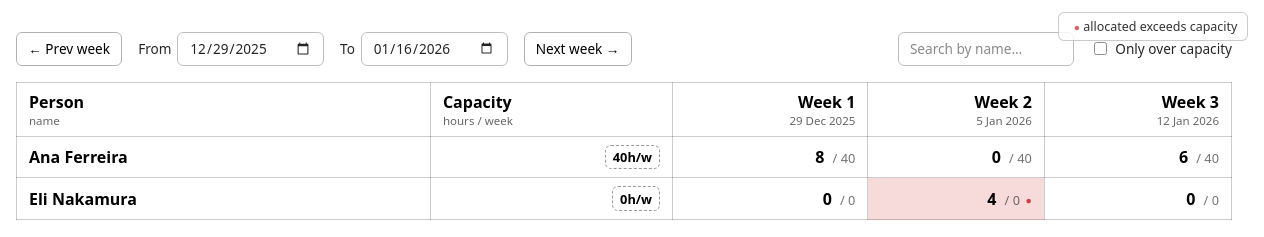
CapacityGrid › filters to only over-capacity people when checked
The width and height of the screenshot is (1264, 237).
Expected: the column heading "Ana Ferreira" is shown, [16, 136, 430, 178]
Click the checkbox labelled "Only over capacity".
click(1100, 49)  # box [1094, 42, 1107, 55]
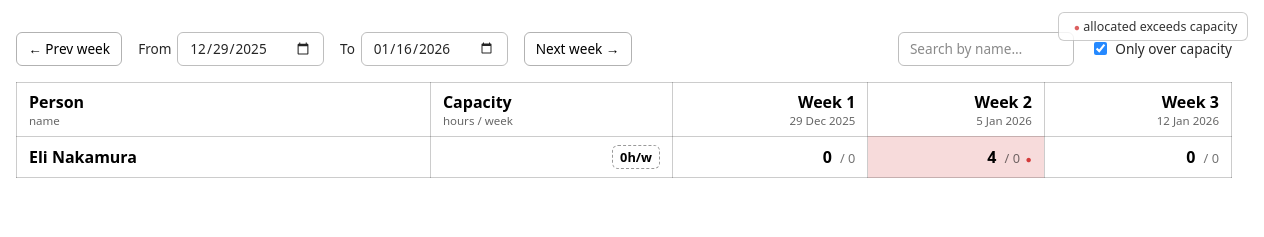
Expected: the column heading "Eli Nakamura" is shown, [16, 136, 430, 178]
Expected: the column heading "Ana Ferreira" is gone
